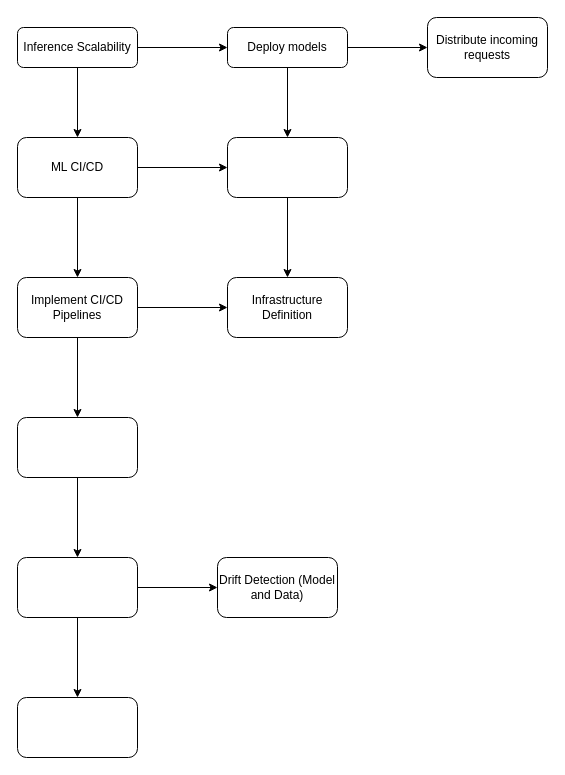
Some shapes in this 565 by 775 pixel diagram are drawn without their labels. The centre of each missing label's shape, as x and y in pixels:
"CI/CD Implementration" belongs at pixel 77 447.
"Model Validation" belongs at pixel 77 587.
"Version Control" belongs at pixel 287 167.
